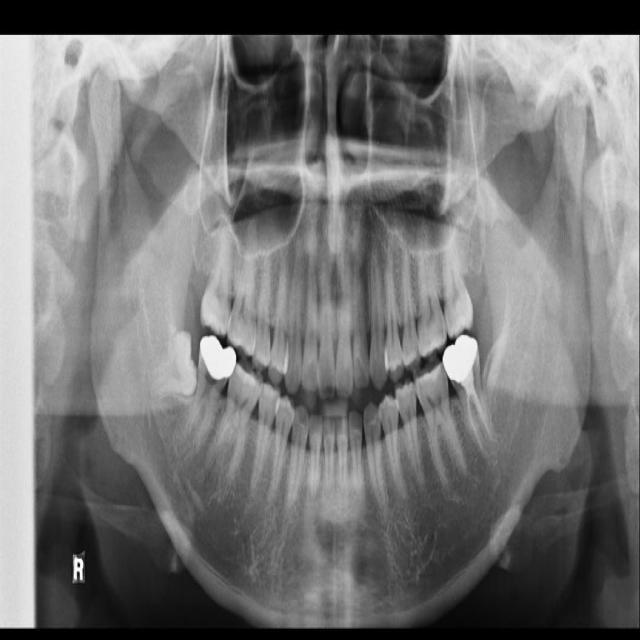52: (184, 330, 246, 391), (431, 330, 492, 390)
73: (452, 369, 497, 457), (596, 552, 604, 572)
BioHorizons Implant: (438, 212, 474, 338)
Blue Sky Bio Implant: (439, 332, 496, 458)
Caries: (199, 209, 238, 337)
Implant: (179, 334, 240, 459)
Keystone Dental Implant: (142, 330, 200, 401)
